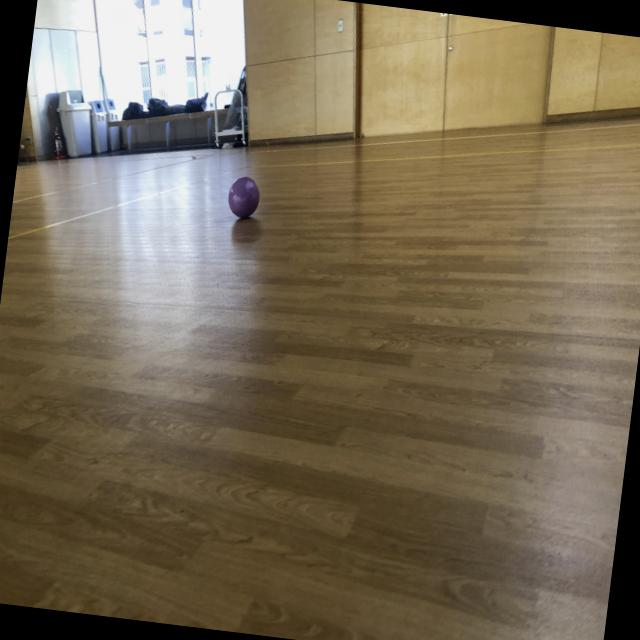purple_ball: (226, 175, 262, 221)
